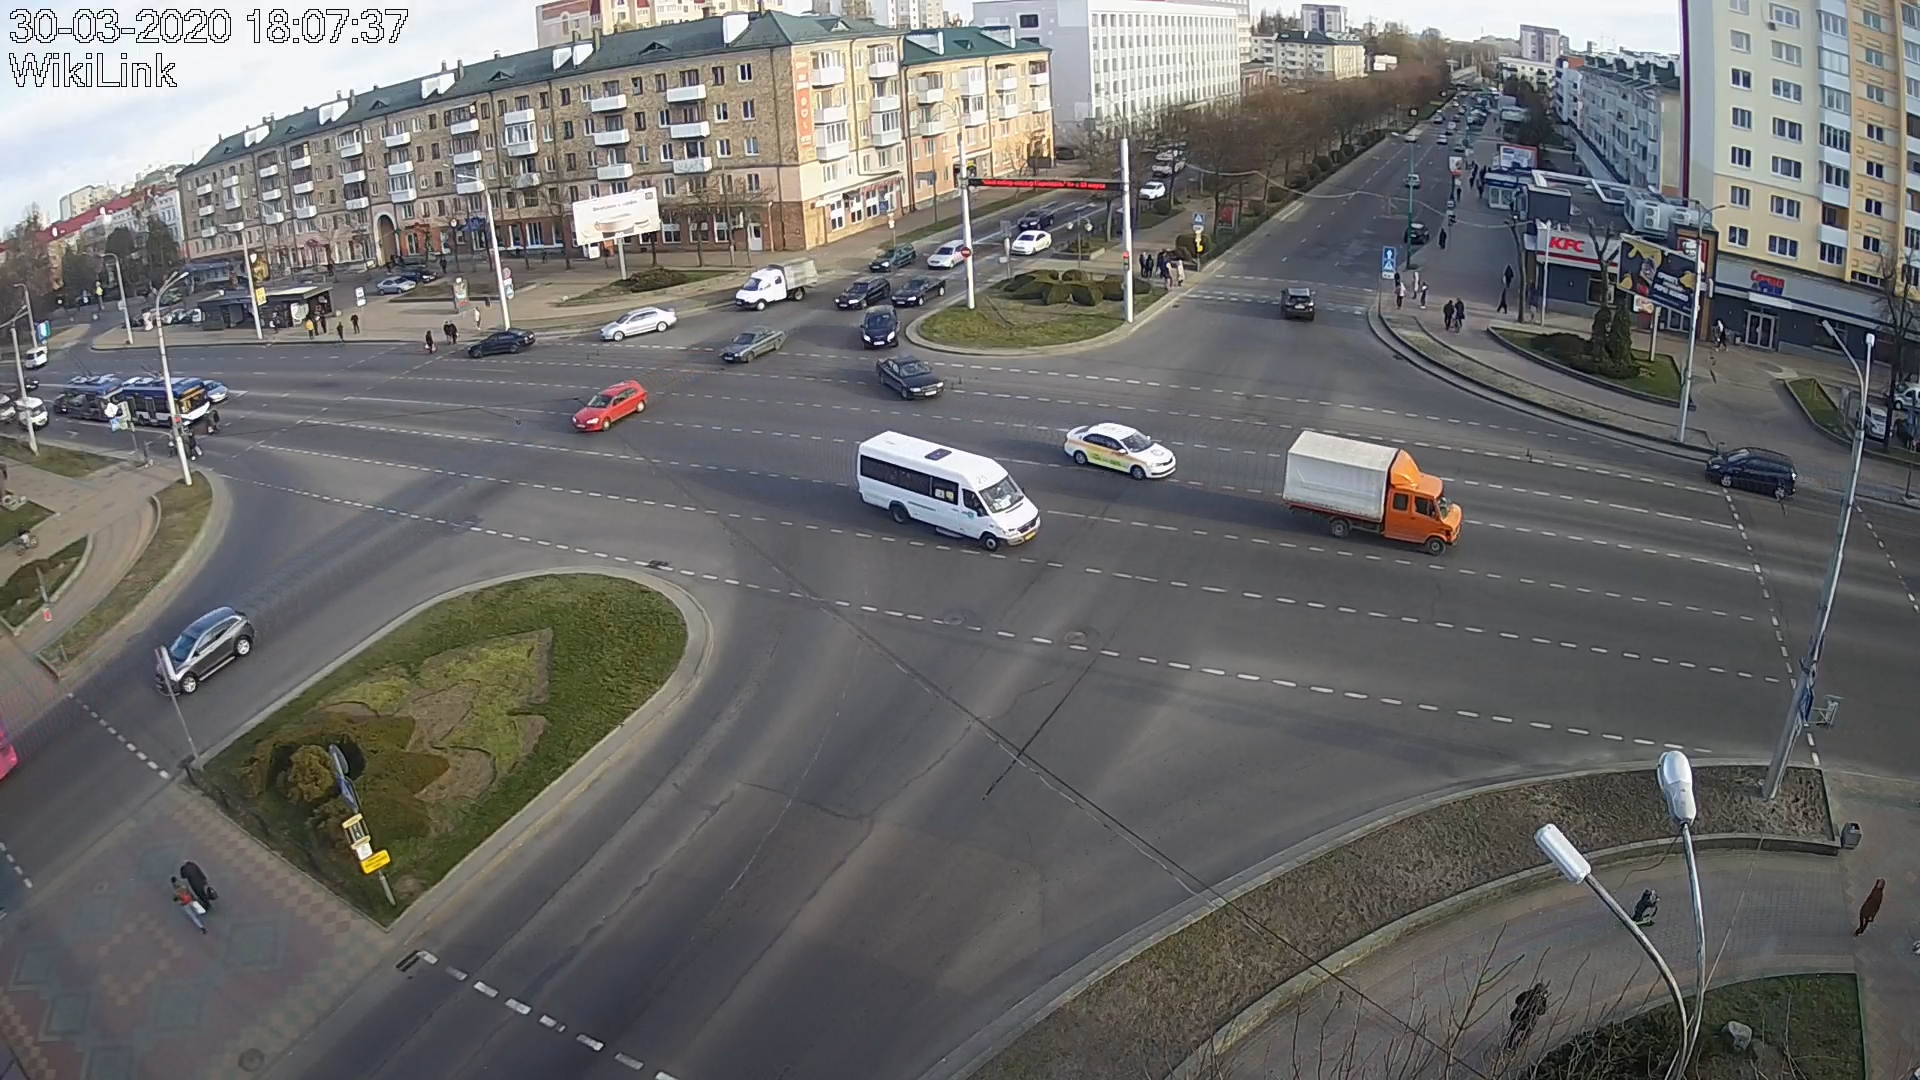bus: (123, 376, 211, 426), (65, 375, 127, 419)
car: (1280, 430, 1462, 556), (855, 430, 1042, 553), (156, 607, 255, 698), (1063, 422, 1178, 481), (1706, 447, 1797, 498), (735, 257, 818, 313), (572, 378, 647, 433), (876, 353, 944, 401), (599, 307, 678, 342), (719, 327, 787, 364), (468, 326, 535, 359), (833, 274, 890, 310), (891, 273, 947, 309), (861, 305, 899, 351), (869, 243, 916, 273), (926, 237, 964, 272), (1279, 287, 1316, 319), (1011, 229, 1054, 255), (1017, 208, 1056, 231), (203, 378, 228, 402)
